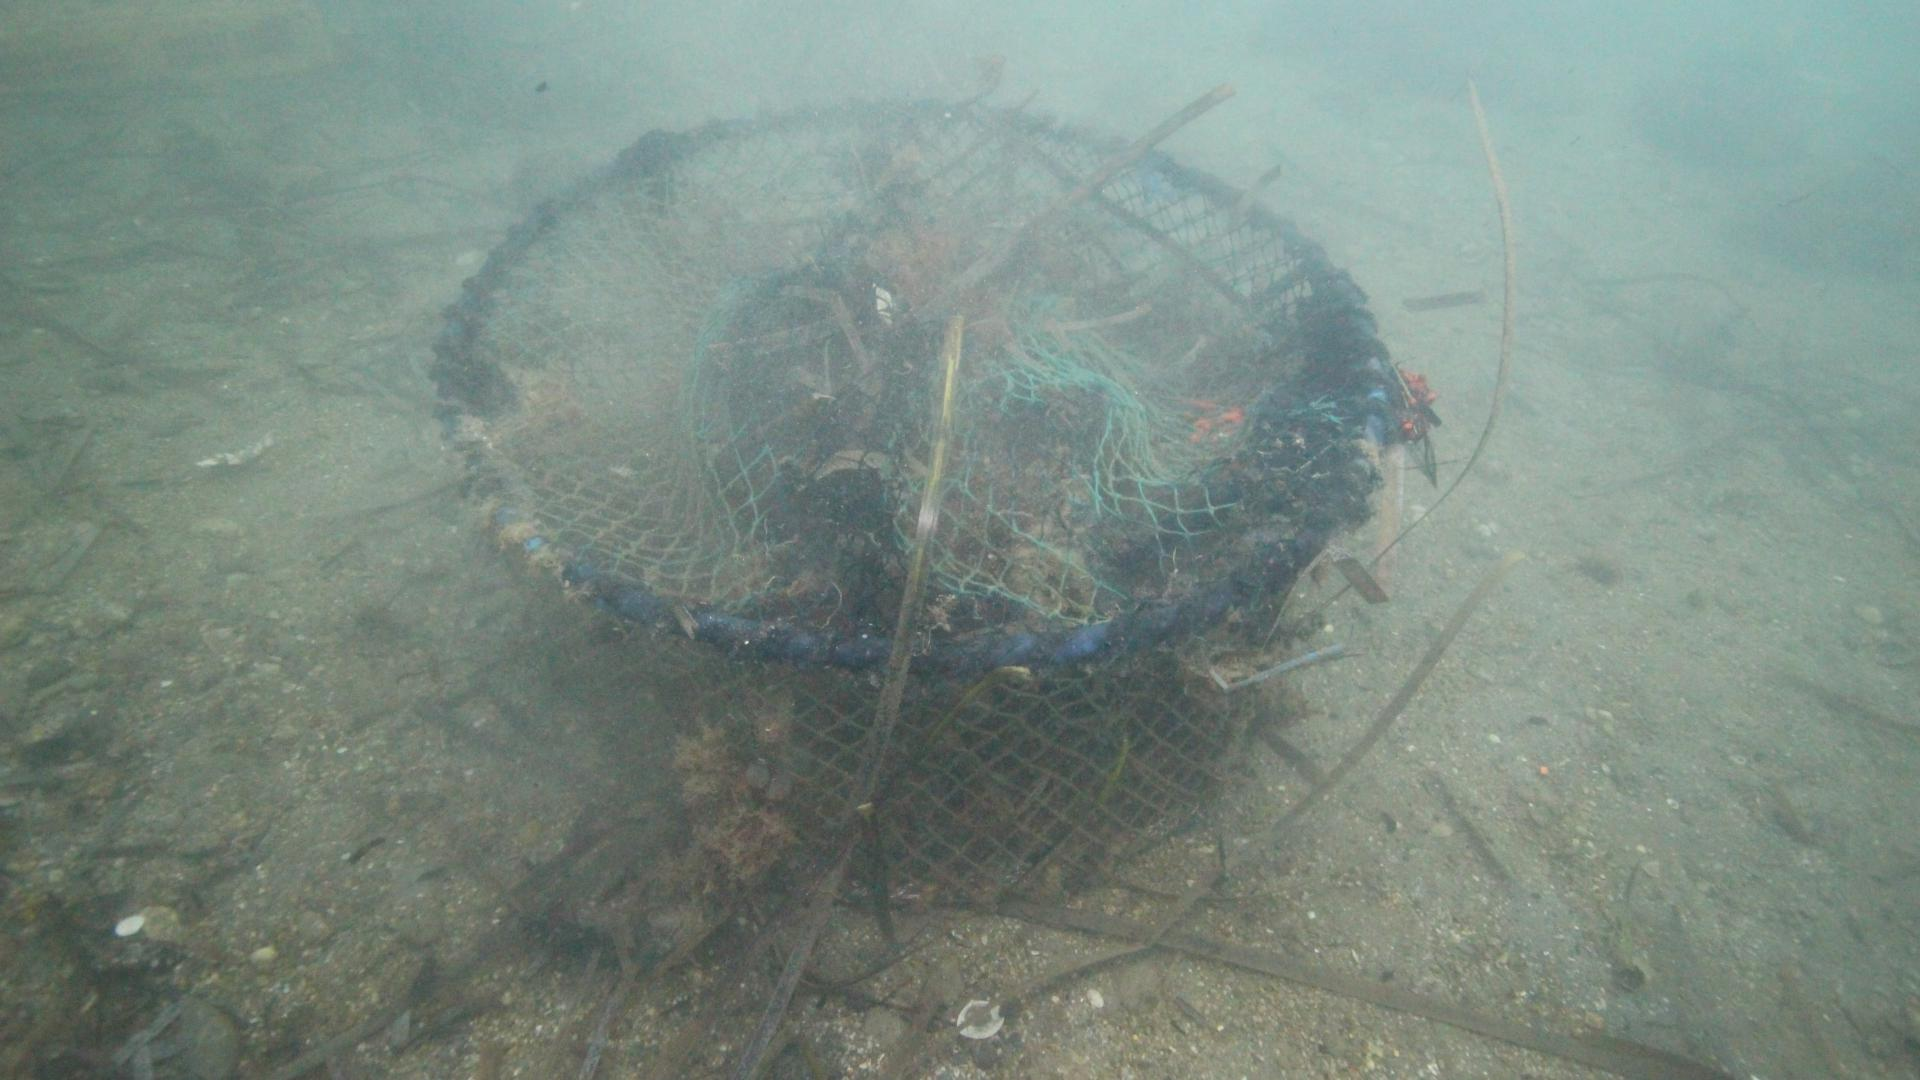circular fish trap: (429, 102, 1389, 911)
